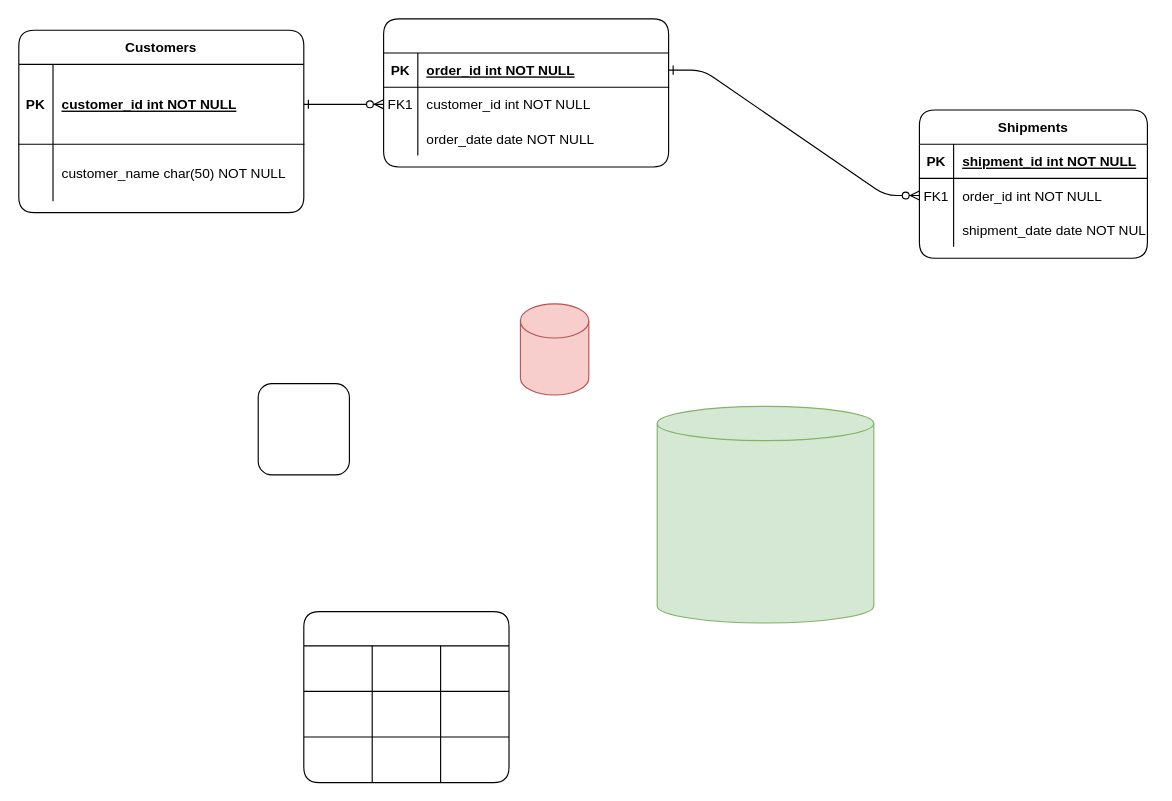
Some shapes in this 1172 by 801 pixel diagram are drawn without their labels. Each missing label, with the box of its shape:
Orders: (382, 18, 669, 167)
Table: (303, 610, 509, 783)
